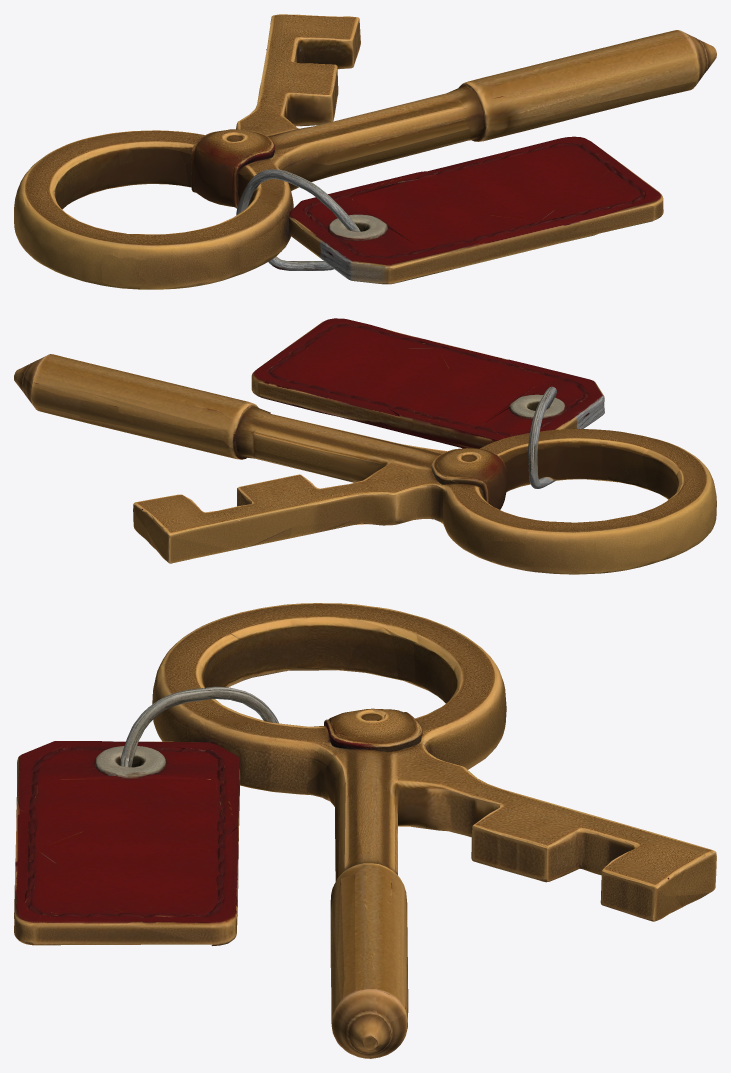
Rendered from forest_key.glb.
3 renders of one model, top to bottom at view 1: azimuth 30°, elevation 25°; view 2: azimuth 150°, elevation 25°; view 3: azimuth 270°, elevation 25°, orthographic. The views are drawn at different scales.
Parts seen in each view (by area): view 1: forest_key_0; view 2: forest_key_0; view 3: forest_key_0.
Part boxes in pixels (<box>): forest_key_0: <box>14,14,716,289</box>; forest_key_0: <box>14,318,716,574</box>; forest_key_0: <box>14,603,716,1058</box>.
Size of the model in its own units: 0.25 by 0.0284 by 0.1759.
1 material, 1 textured.
